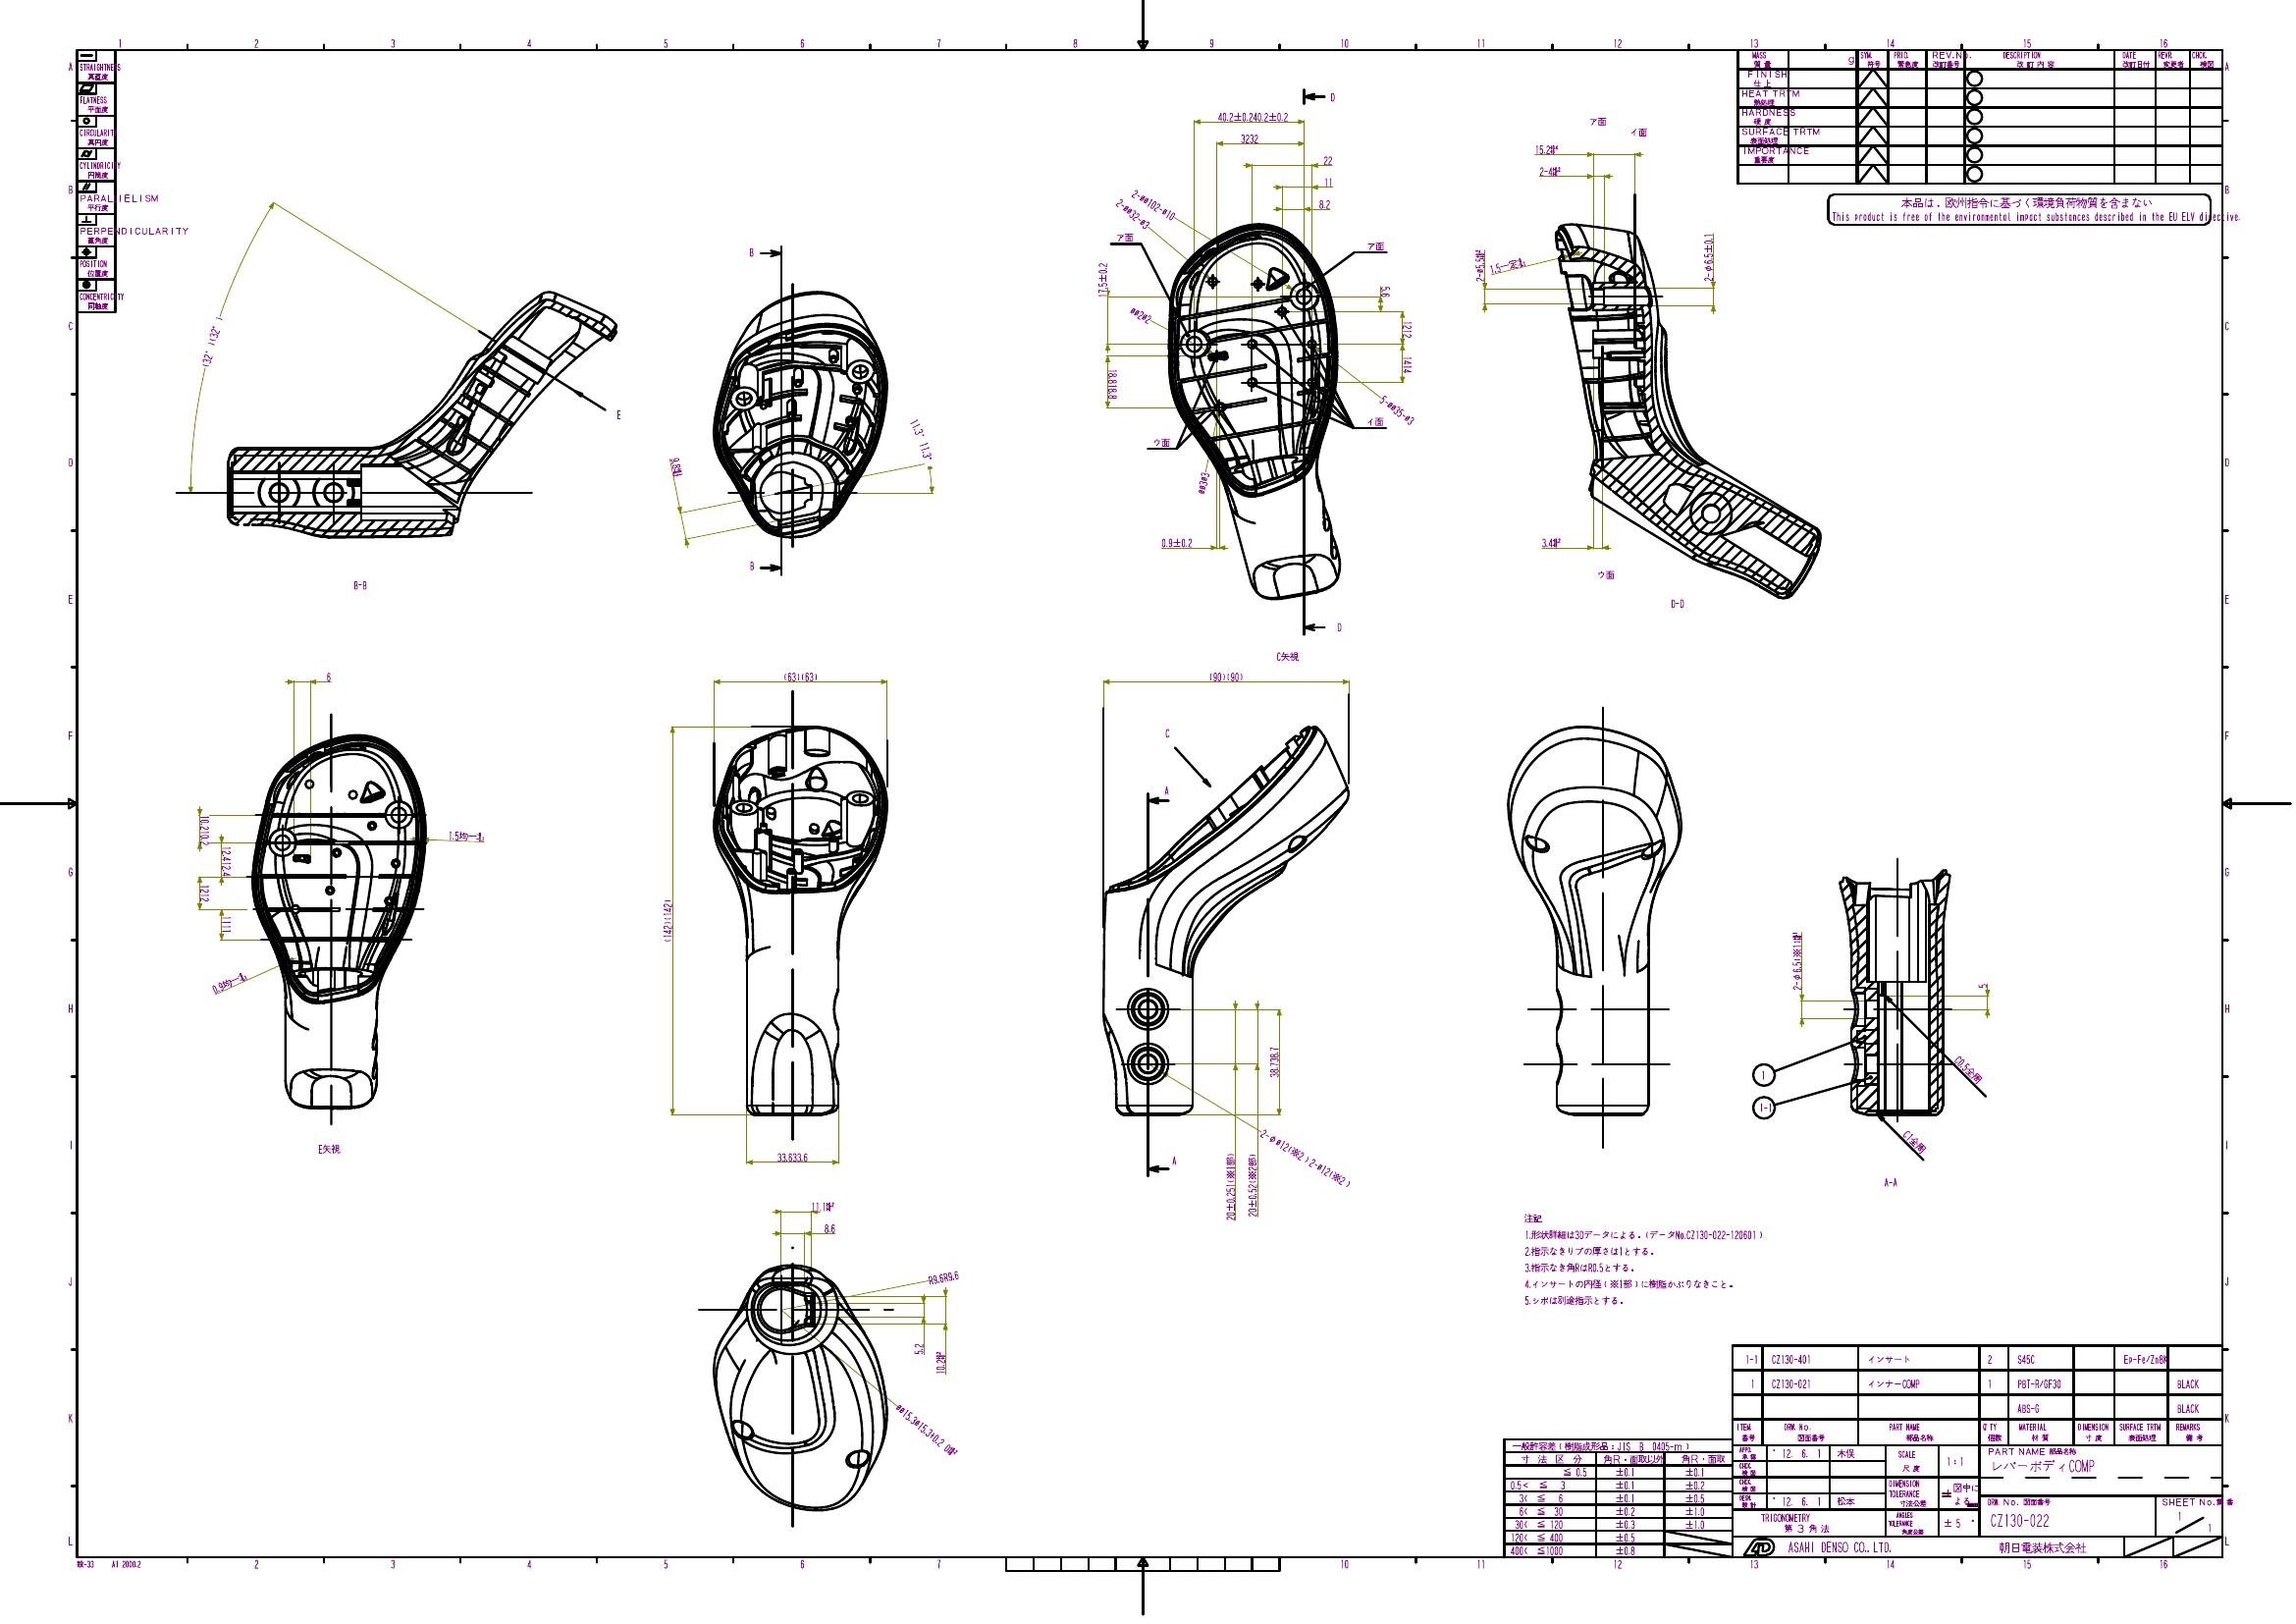anntotation_text: (1521, 1211, 1765, 1308), (1825, 192, 2242, 225), (74, 1555, 146, 1570), (1751, 1093, 1774, 1120), (1751, 1062, 1774, 1086), (1275, 649, 1300, 664), (316, 1141, 341, 1156), (1667, 598, 1688, 613), (1151, 436, 1173, 450), (1365, 415, 1386, 429), (351, 576, 369, 592), (1597, 568, 1616, 582), (1365, 239, 1384, 253), (1114, 230, 1137, 241), (1588, 116, 1607, 128), (1630, 127, 1648, 139), (1881, 1176, 1899, 1188), (613, 406, 624, 422), (1333, 620, 1344, 634), (1161, 784, 1172, 798), (747, 559, 755, 575), (1328, 90, 1337, 104), (747, 246, 755, 258), (1163, 726, 1172, 738), (1170, 1155, 1175, 1167)
dimension_text: (1251, 1151, 1358, 1165), (887, 1422, 966, 1436), (1223, 1151, 1238, 1222), (1245, 1151, 1260, 1218), (1216, 111, 1289, 123), (1790, 928, 1802, 993), (1700, 228, 1715, 283), (183, 336, 239, 348), (1126, 199, 1180, 211), (662, 898, 675, 944), (207, 977, 246, 991), (1207, 670, 1245, 684), (1490, 258, 1527, 272), (1112, 207, 1154, 220), (1374, 404, 1421, 415), (898, 434, 945, 445), (1096, 258, 1108, 299), (1105, 366, 1119, 401), (1472, 248, 1486, 281), (197, 814, 211, 847), (775, 1149, 808, 1164), (1267, 1046, 1281, 1079), (448, 830, 485, 842), (1899, 1135, 1931, 1149), (1948, 1065, 1989, 1076), (1159, 536, 1193, 548), (220, 844, 232, 877), (926, 1271, 959, 1283), (1532, 141, 1560, 155), (1535, 163, 1563, 178), (782, 671, 817, 682), (1539, 534, 1563, 548), (935, 1348, 947, 1374), (810, 1200, 836, 1213), (1400, 353, 1414, 376), (1238, 130, 1260, 144), (1126, 311, 1154, 322), (1400, 316, 1412, 339), (664, 460, 687, 473), (1189, 478, 1216, 489), (220, 912, 230, 935), (822, 1220, 838, 1234), (912, 1338, 924, 1355), (199, 882, 209, 902), (1316, 197, 1332, 209), (1318, 153, 1333, 165), (1379, 283, 1391, 297), (1321, 174, 1333, 188), (1975, 981, 1989, 991), (323, 670, 332, 682)
object: (1553, 221, 1823, 601), (1100, 722, 1351, 1118), (223, 292, 620, 541), (710, 724, 891, 1118), (1505, 722, 1683, 1120), (249, 731, 429, 1113), (1165, 220, 1342, 601), (708, 1262, 889, 1513), (708, 290, 889, 541), (1836, 866, 1952, 1118)
title_block: (1729, 1343, 2224, 1559), (1734, 46, 2224, 186), (1502, 1436, 1734, 1559), (74, 46, 118, 315)
